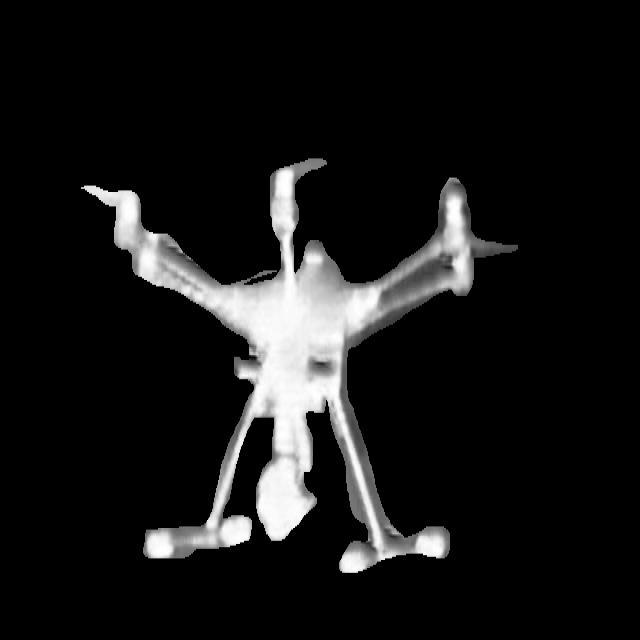drone: (64, 108, 524, 590)
